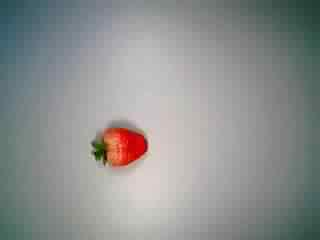strawberry: (87, 114, 153, 176)
